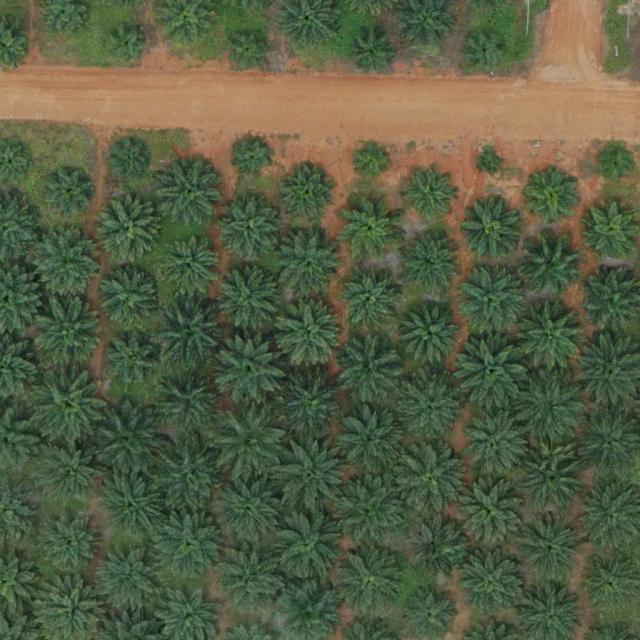Healthy: (31, 295, 109, 374), (30, 367, 108, 446), (90, 402, 168, 481), (150, 289, 228, 368), (149, 364, 227, 443), (149, 436, 227, 515), (213, 332, 291, 411), (211, 406, 289, 485), (272, 436, 350, 515), (452, 335, 530, 414), (510, 371, 588, 450), (269, 507, 347, 586), (211, 470, 289, 549), (151, 506, 229, 585), (273, 297, 351, 375), (391, 441, 469, 519), (333, 472, 411, 550), (333, 543, 411, 621), (516, 303, 587, 374), (32, 228, 103, 298), (37, 438, 107, 509), (459, 409, 529, 480), (517, 510, 587, 581), (457, 262, 527, 332), (516, 440, 586, 510), (97, 269, 160, 332), (339, 341, 402, 404), (399, 231, 462, 294), (400, 303, 463, 366), (459, 483, 522, 546), (404, 515, 467, 578), (222, 548, 285, 611), (98, 197, 160, 260), (162, 160, 224, 223), (158, 236, 220, 299), (219, 196, 281, 259), (219, 266, 281, 329), (278, 231, 340, 294), (283, 373, 345, 436), (342, 198, 404, 261), (339, 270, 401, 333), (342, 406, 404, 469), (399, 376, 461, 439), (521, 232, 583, 295), (462, 554, 524, 617), (95, 549, 158, 611), (37, 515, 100, 577), (102, 329, 164, 391), (462, 196, 524, 258), (101, 473, 163, 535), (403, 168, 458, 223), (285, 166, 339, 221), (527, 174, 581, 229), (586, 203, 640, 258), (350, 31, 397, 78)
Small: (464, 27, 511, 75), (105, 22, 152, 70), (47, 169, 94, 216), (227, 27, 274, 74), (110, 140, 150, 180), (236, 139, 275, 179), (599, 147, 638, 187), (352, 140, 391, 179), (481, 152, 504, 176)
